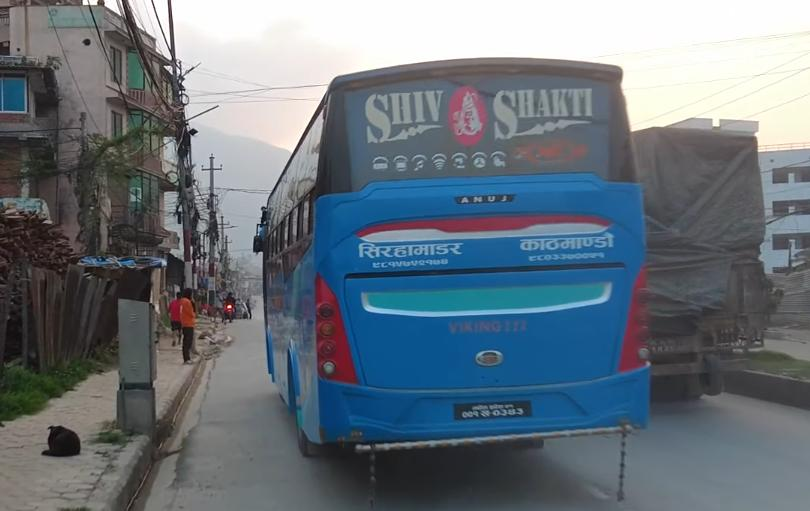bus: (251, 54, 655, 463)
